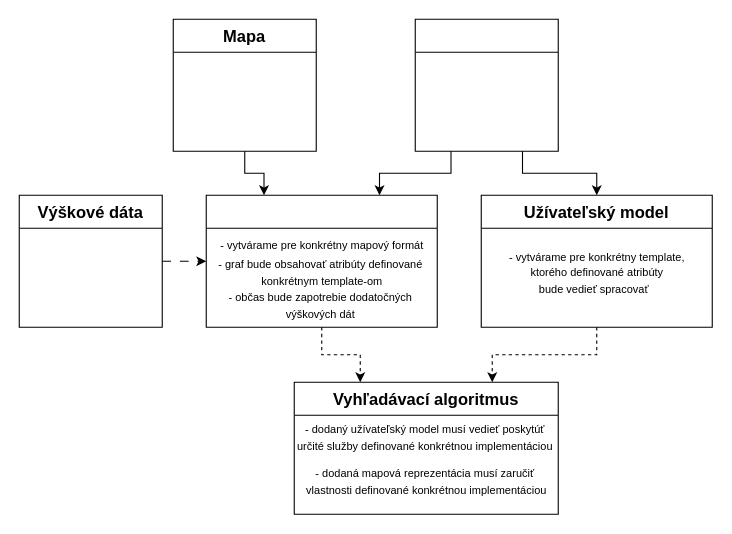
The diagram is 732 pixels wide and 534 high, and some of its shapes have lost their labels. Each missing label, with the box of its shape:
Mapová reprezentácia: (205, 194, 437, 327)
Template: (414, 18, 558, 151)
